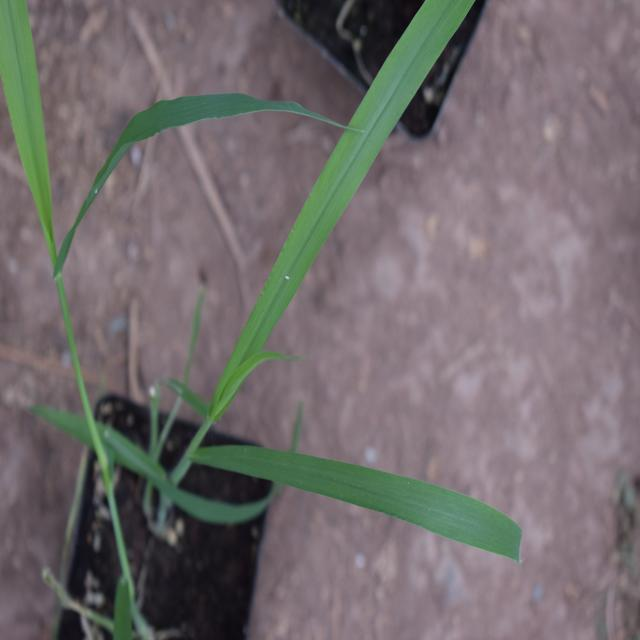crabgrass: (177, 0, 536, 569), (0, 6, 271, 311)
